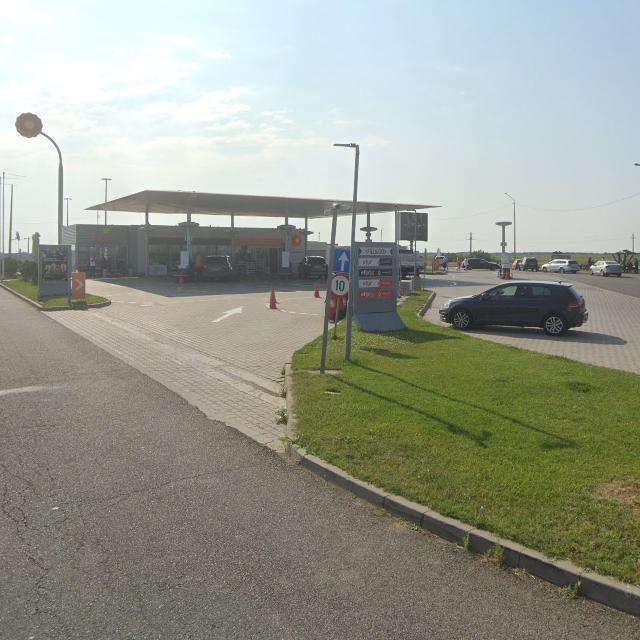forb_speed_over_10: (331, 275, 349, 298)
